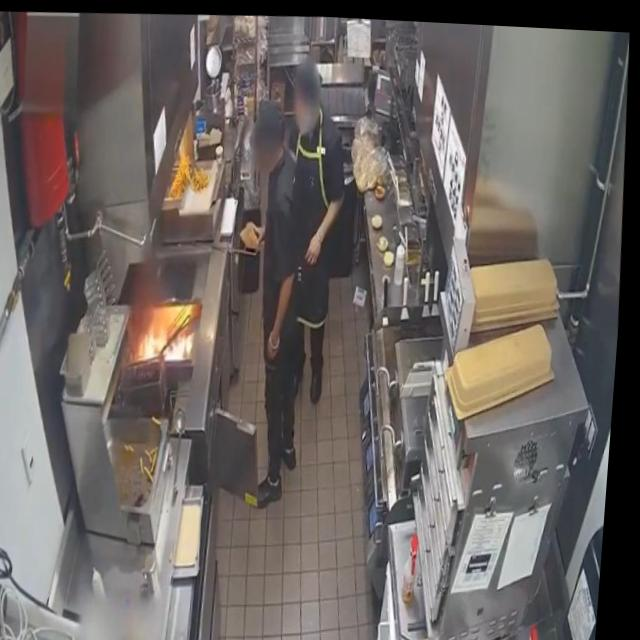fire: (146, 317, 200, 362)
